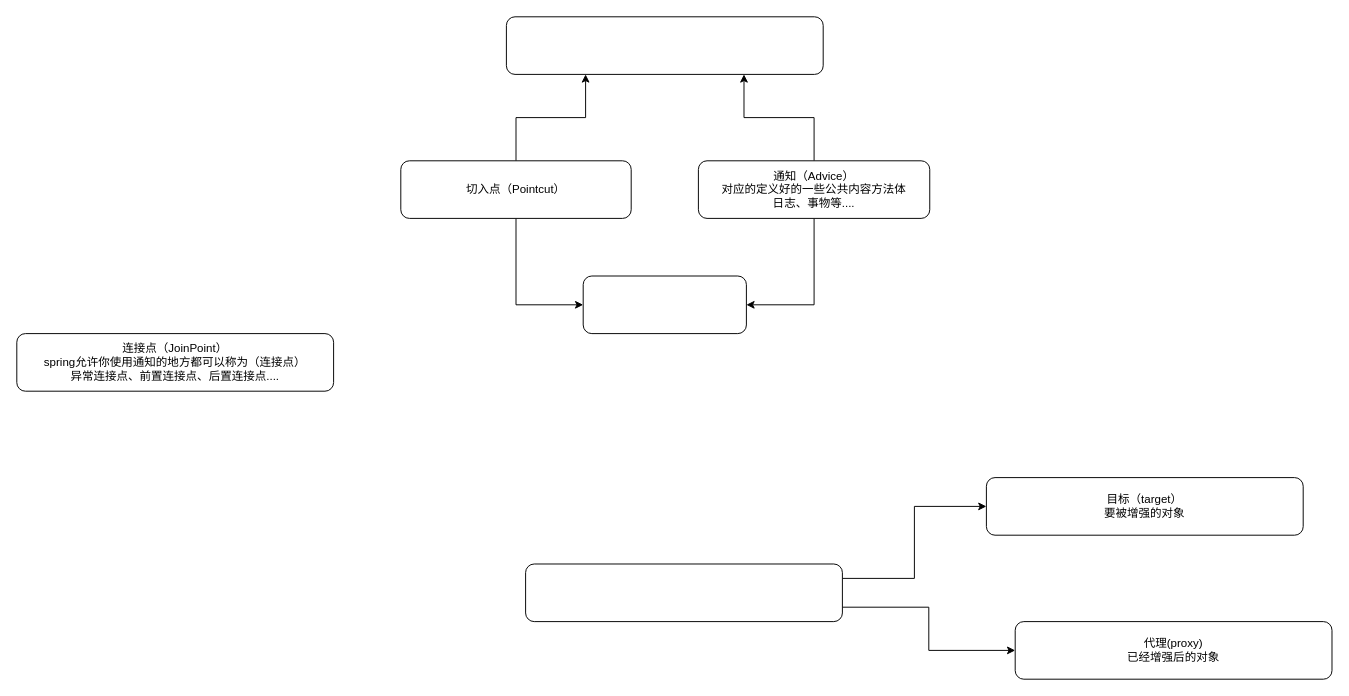
Image size: 1349x696. Some labels were removed from this diagram. Here are the shapes that lost their labels. From the top down, the centre of each, then its label:
the point at 664,45: 切面（Aspect） 定义了N个通知和切入点
the point at 664,304: 顾问、增强器（Advisor） 包装了（切入点和通知）
the point at 683,592: 织入(weaving)
